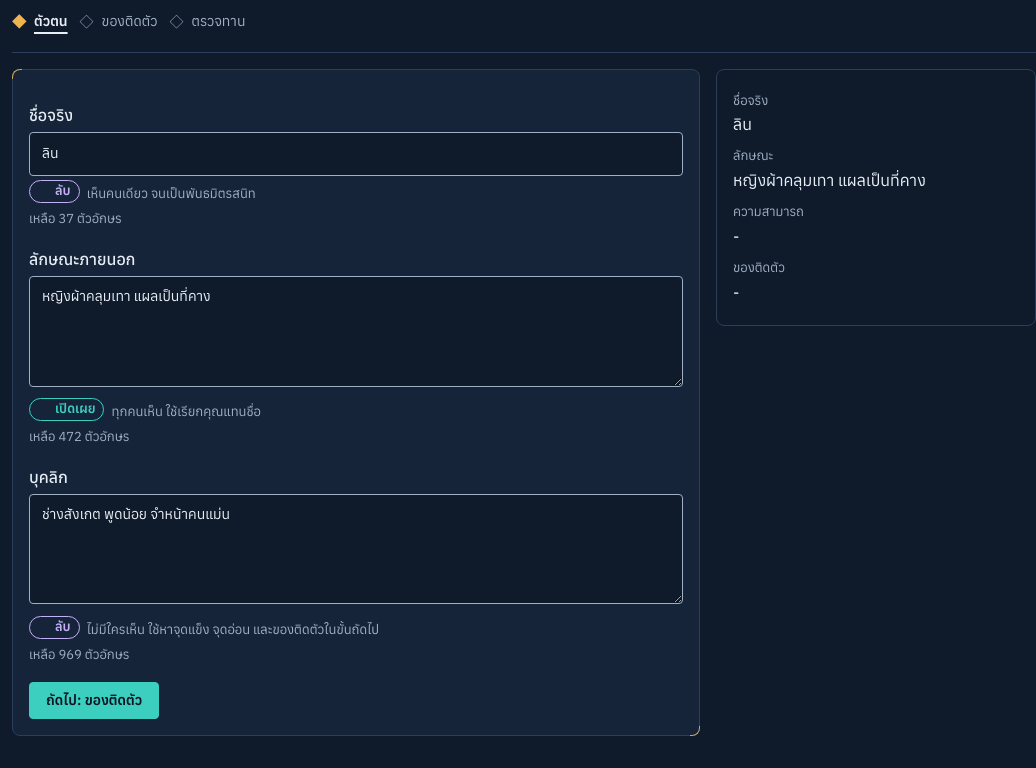
C1 the character steps show where you are and let you go back › identity → loot → review: "ขั้นที่ n / 3" follows, and an earlier step opens again with what was typed
The image size is (1036, 768).
Earlier steps of the test are not shown.
Later steps or results of the test are not shown.
(page scrolled)
Click the button "ถัดไป: ของติดตัว" at {"x": 94, "y": 700}, box [29, 682, 159, 719]
(page scrolled)
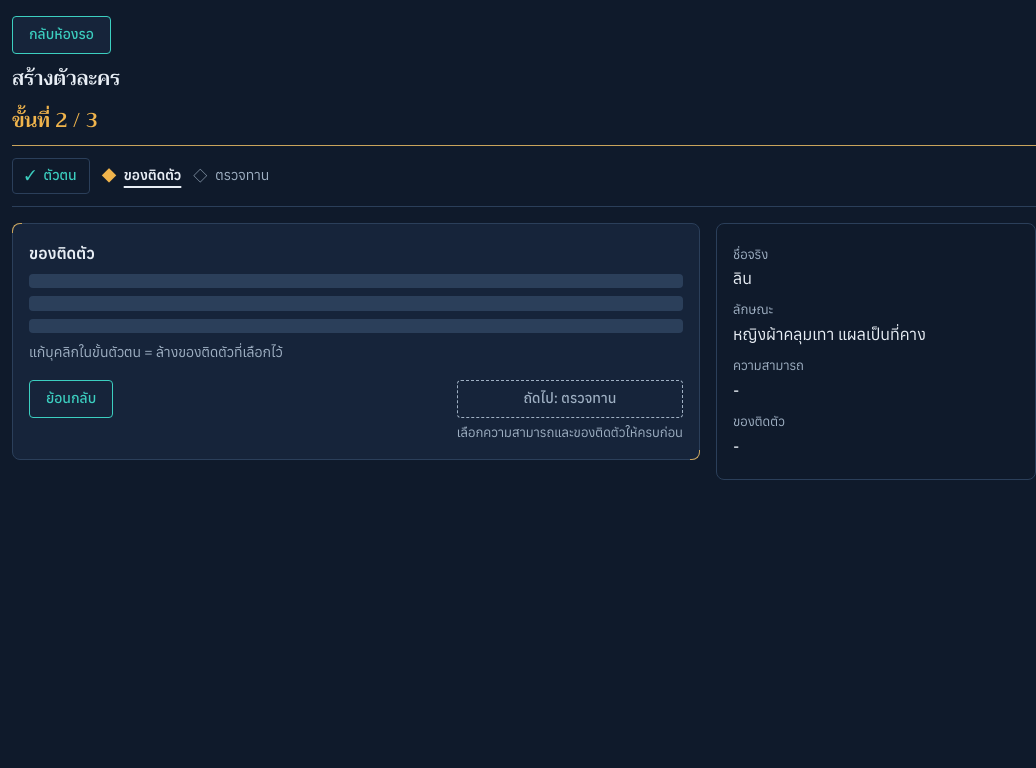
Now the text "ขั้นที่ 2 / 3" is shown, box [12, 103, 98, 138]
Click the button "ย้อนกลับ" at {"x": 71, "y": 399}, box [29, 380, 113, 418]
(page scrolled)
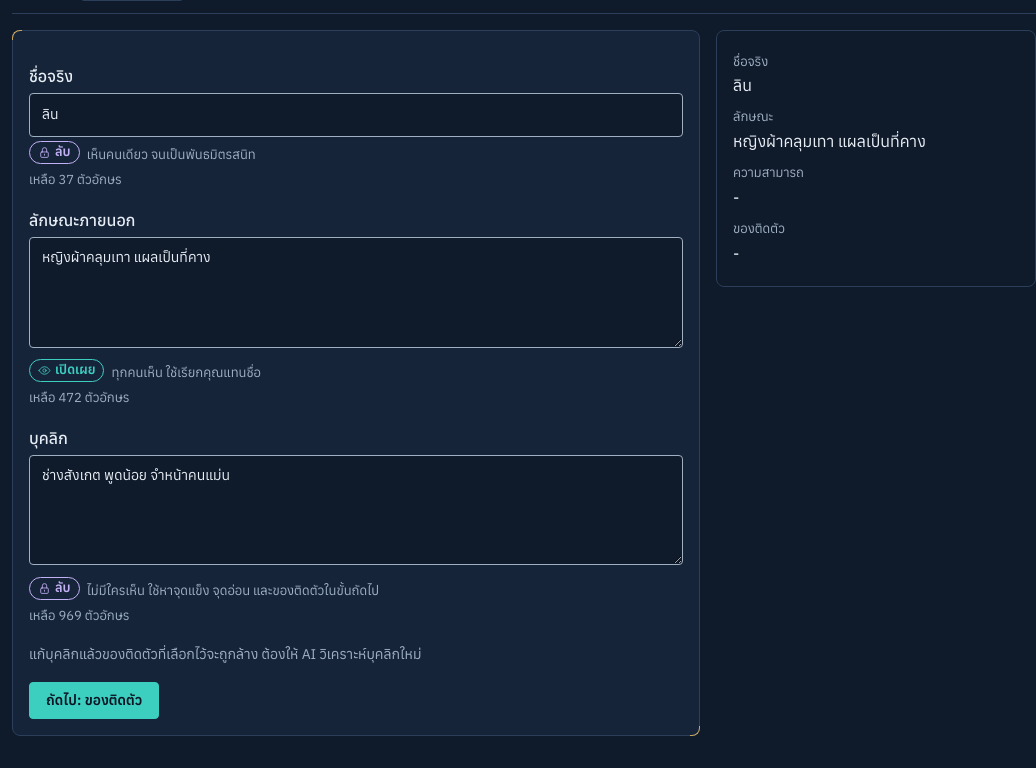
Now the field labelled "ชื่อจริง" holds "ลิน", box [29, 93, 683, 137]
Click the button "ถัดไป: ของติดตัว" at {"x": 94, "y": 700}, box [29, 682, 159, 719]
(page scrolled)
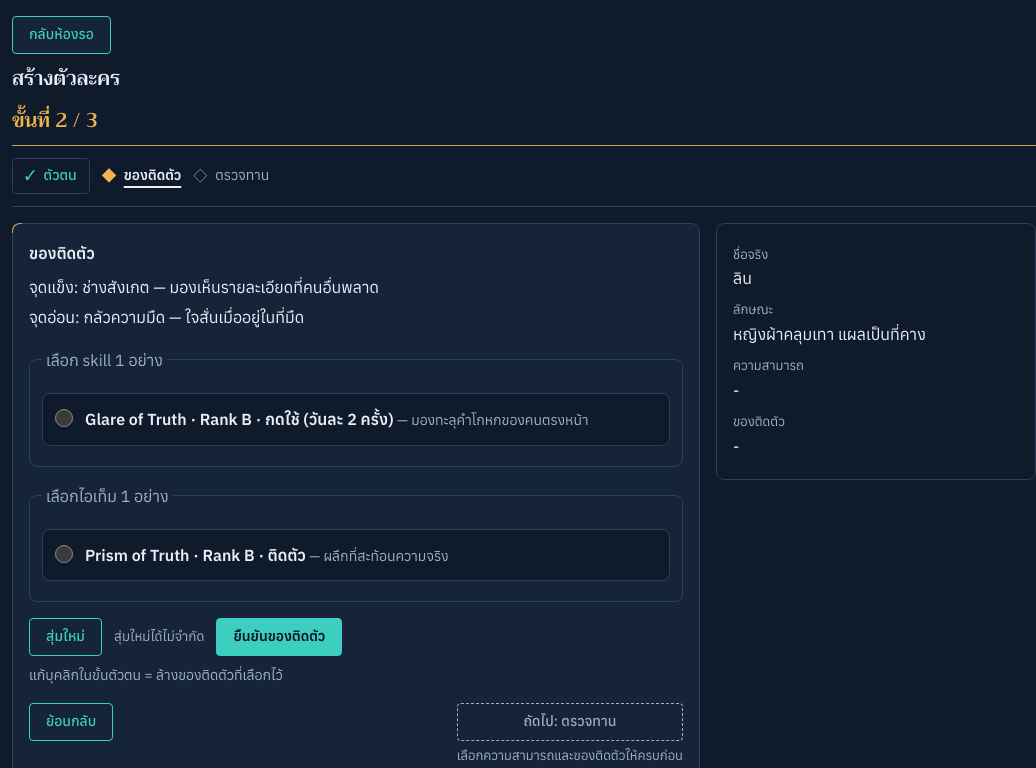
Now the button "ถัดไป: ตรวจทาน" is disabled, box [457, 703, 683, 741]
Now the button "เลือกความสามารถและของติดตัวให้ครบก่อน" is shown, box [457, 745, 683, 766]
Click the radio button labelled "Glare of Truth" at {"x": 64, "y": 418}, box [55, 409, 73, 427]
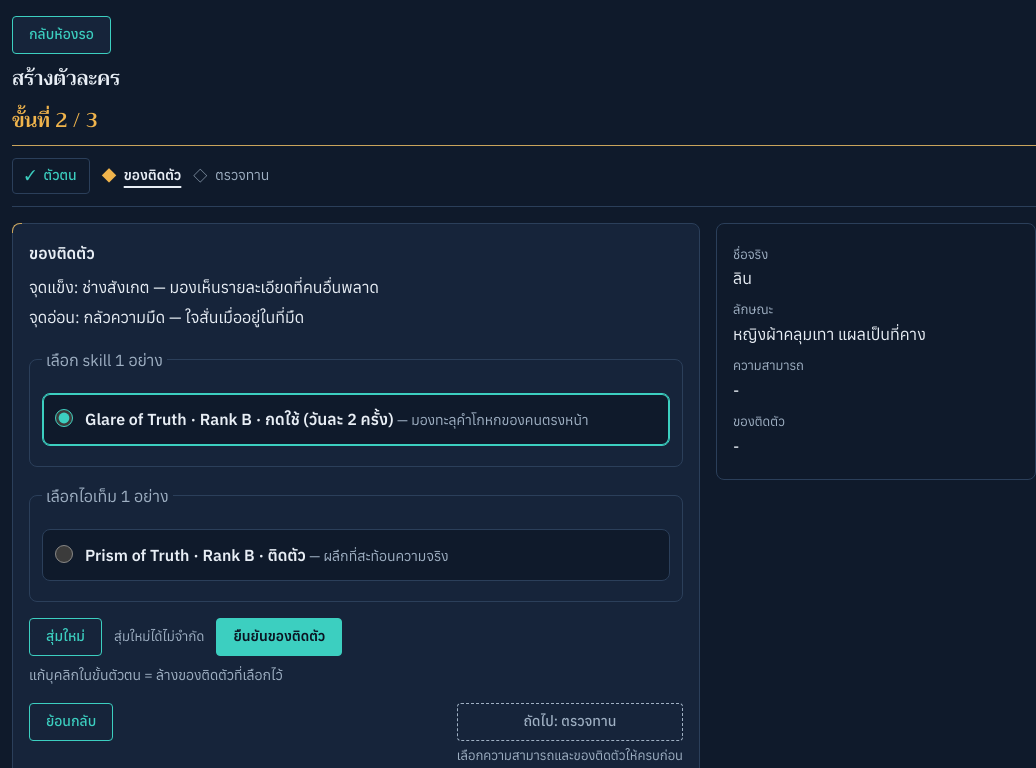
Click the radio button labelled "Prism of Truth · Rank B · ติดตัว — ผลึกที่สะท้อนความจริง" at {"x": 64, "y": 554}, box [55, 545, 73, 563]
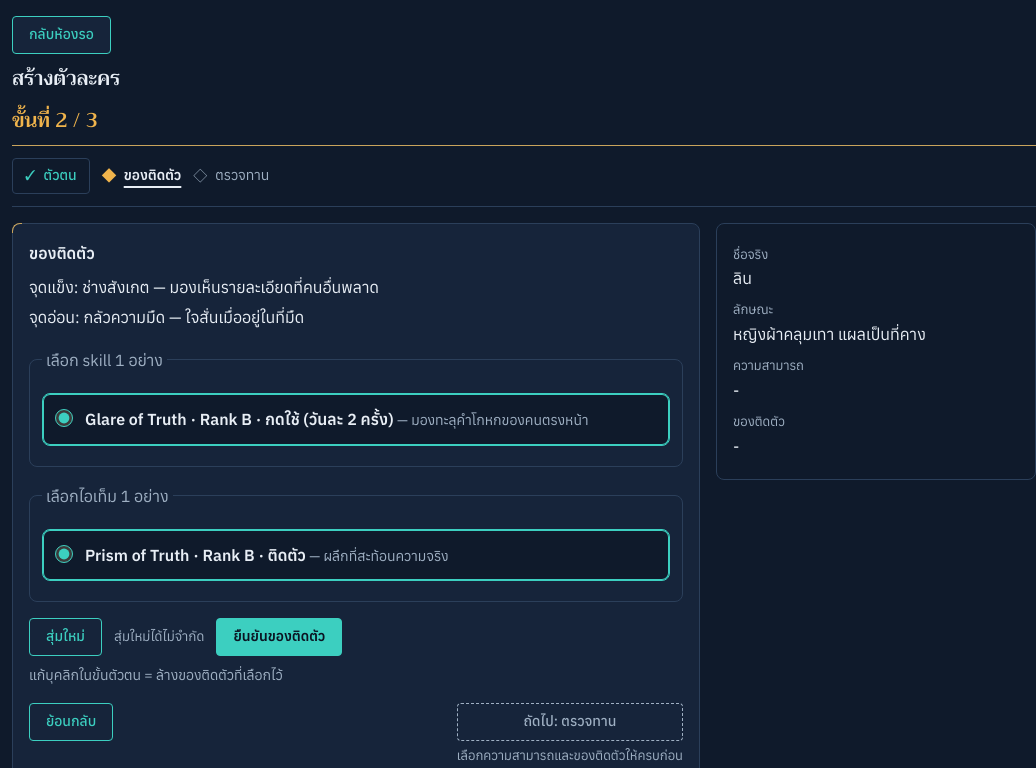
Click the button "ยืนยันของติดตัว" at {"x": 279, "y": 637}, box [216, 618, 342, 656]
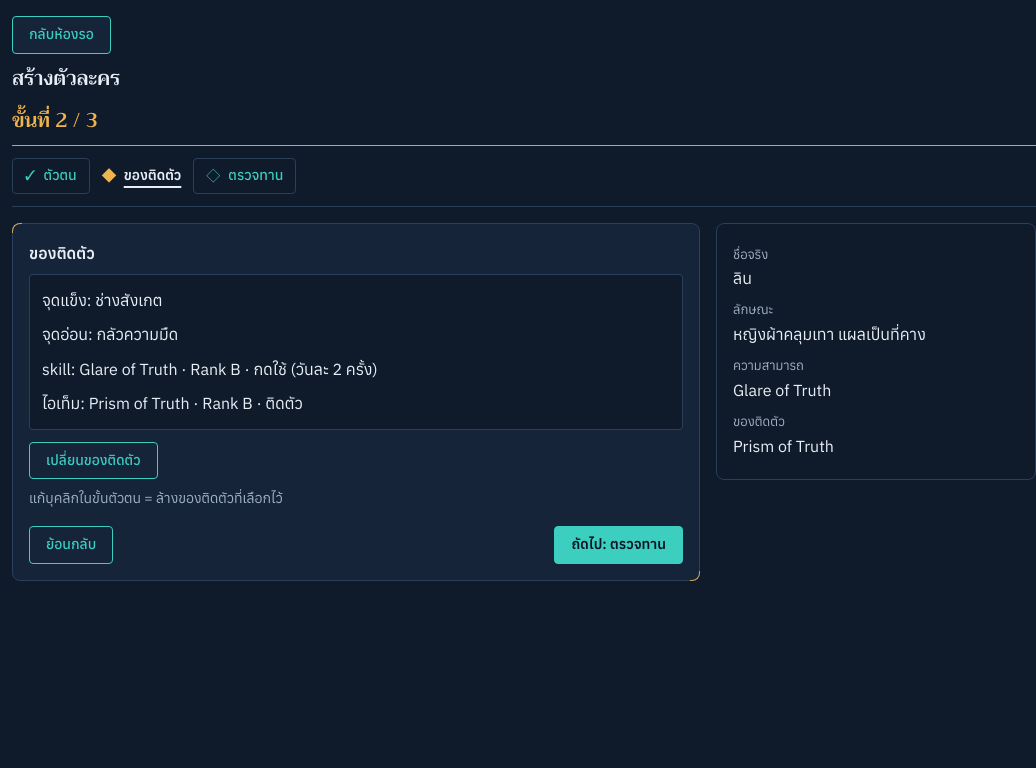
Now the list named "ของติดตัวที่เลือก" is shown, box [29, 274, 683, 430]
